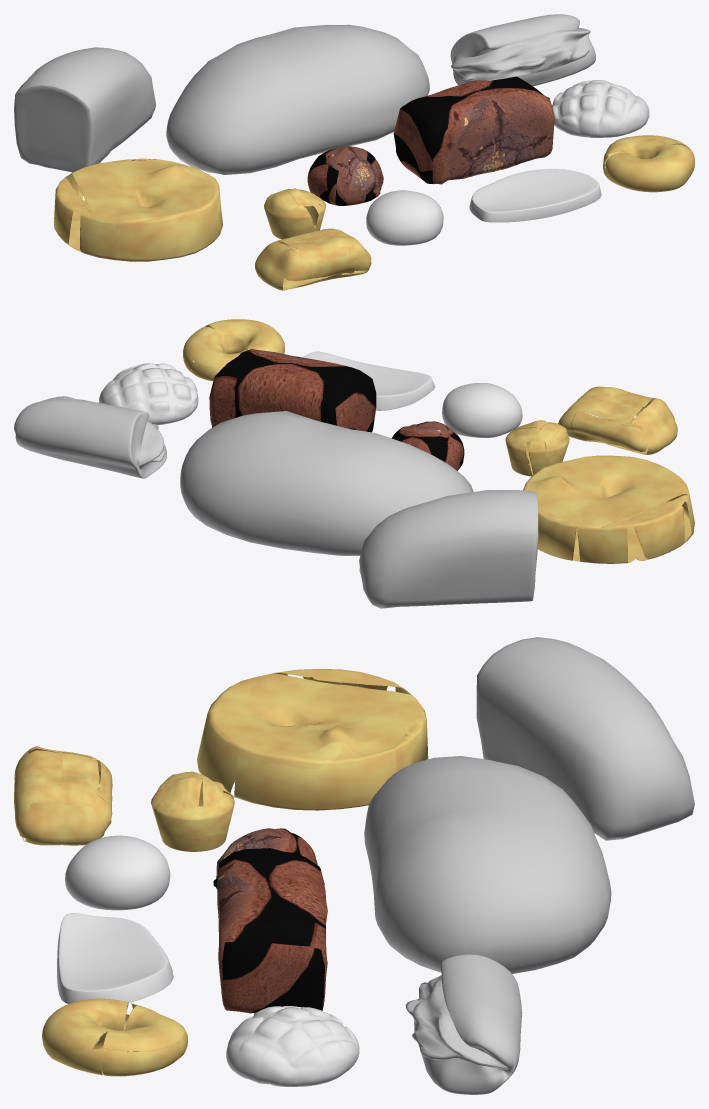
Rendered from Bakery Asset Pack.fbx.
The picture shows the model from 3 angles, top to bottom: view 1: azimuth 30°, elevation 25°; view 2: azimuth 150°, elevation 25°; view 3: azimuth 270°, elevation 25°; orthographic projection. The views are drawn at different scales.
Parts seen in each view (by area): view 1: Loaf of Bread, Frosted Cake, Loaf of Bread.001, Nut Bread, Sub Sandwich, Sliced Bread, Chocolate Brioche, Bread Roll 2, Sweet Bread Roll, Raisin Bread, Bread Roll, Spiced Cupcake; view 2: Loaf of Bread, Loaf of Bread.001, Frosted Cake, Nut Bread, Sub Sandwich, Chocolate Brioche, Bread Roll 2, Sweet Bread Roll, Bread Roll, Sliced Bread, Spiced Cupcake, Raisin Bread; view 3: Loaf of Bread, Loaf of Bread.001, Frosted Cake, Nut Bread, Sub Sandwich, Sweet Bread Roll, Bread Roll 2, Chocolate Brioche, Sliced Bread, Bread Roll, Spiced Cupcake, Raisin Bread.
Boxes of the visible parts, left/top/right/bottom form: Loaf of Bread: left=166, top=24, right=429, bottom=174; Frosted Cake: left=54, top=158, right=222, bottom=261; Loaf of Bread.001: left=14, top=47, right=156, bottom=172; Nut Bread: left=393, top=76, right=554, bottom=184; Sub Sandwich: left=450, top=14, right=595, bottom=86; Sliced Bread: left=469, top=169, right=601, bottom=222; Chocolate Brioche: left=255, top=228, right=371, bottom=290; Bread Roll 2: left=552, top=80, right=649, bottom=137; Sweet Bread Roll: left=603, top=135, right=694, bottom=192; Raisin Bread: left=307, top=146, right=383, bottom=205; Bread Roll: left=366, top=190, right=443, bottom=245; Spiced Cupcake: left=264, top=188, right=325, bottom=239; Loaf of Bread: left=180, top=411, right=473, bottom=555; Loaf of Bread.001: left=359, top=490, right=538, bottom=608; Frosted Cake: left=523, top=455, right=694, bottom=563; Nut Bread: left=209, top=349, right=376, bottom=432; Sub Sandwich: left=14, top=396, right=166, bottom=478; Chocolate Brioche: left=558, top=386, right=677, bottom=454; Bread Roll 2: left=99, top=363, right=198, bottom=425; Sweet Bread Roll: left=183, top=319, right=284, bottom=381; Bread Roll: left=442, top=383, right=522, bottom=437; Sliced Bread: left=303, top=351, right=435, bottom=410; Spiced Cupcake: left=505, top=420, right=569, bottom=476; Raisin Bread: left=392, top=421, right=464, bottom=470; Loaf of Bread: left=364, top=756, right=611, bottom=973; Loaf of Bread.001: left=476, top=637, right=694, bottom=840; Frosted Cake: left=197, top=669, right=428, bottom=810; Nut Bread: left=217, top=848, right=327, bottom=1013; Sub Sandwich: left=405, top=954, right=522, bottom=1094; Sweet Bread Roll: left=42, top=998, right=187, bottom=1076; Bread Roll 2: left=226, top=1006, right=359, bottom=1086; Chocolate Brioche: left=14, top=746, right=112, bottom=845; Sliced Bread: left=57, top=913, right=173, bottom=1003; Bread Roll: left=65, top=835, right=170, bottom=910; Spiced Cupcake: left=151, top=771, right=234, bottom=851; Raisin Bread: left=213, top=828, right=317, bottom=889.
Size of the model in its own units: 68.71 by 10.24 by 51.11.
